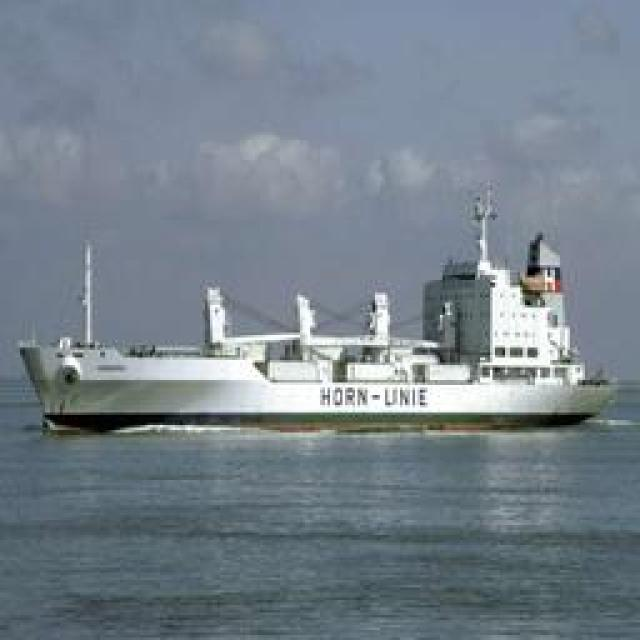CIV_Ship: (28, 226, 602, 432)
